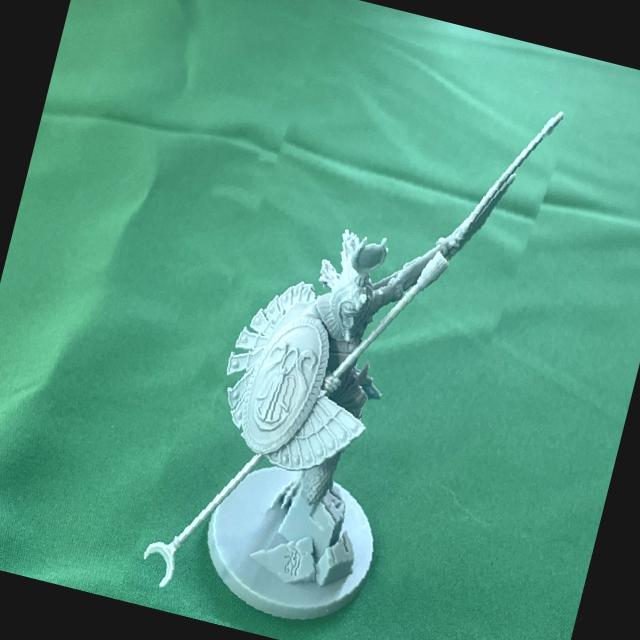isis: (131, 7, 567, 640)
